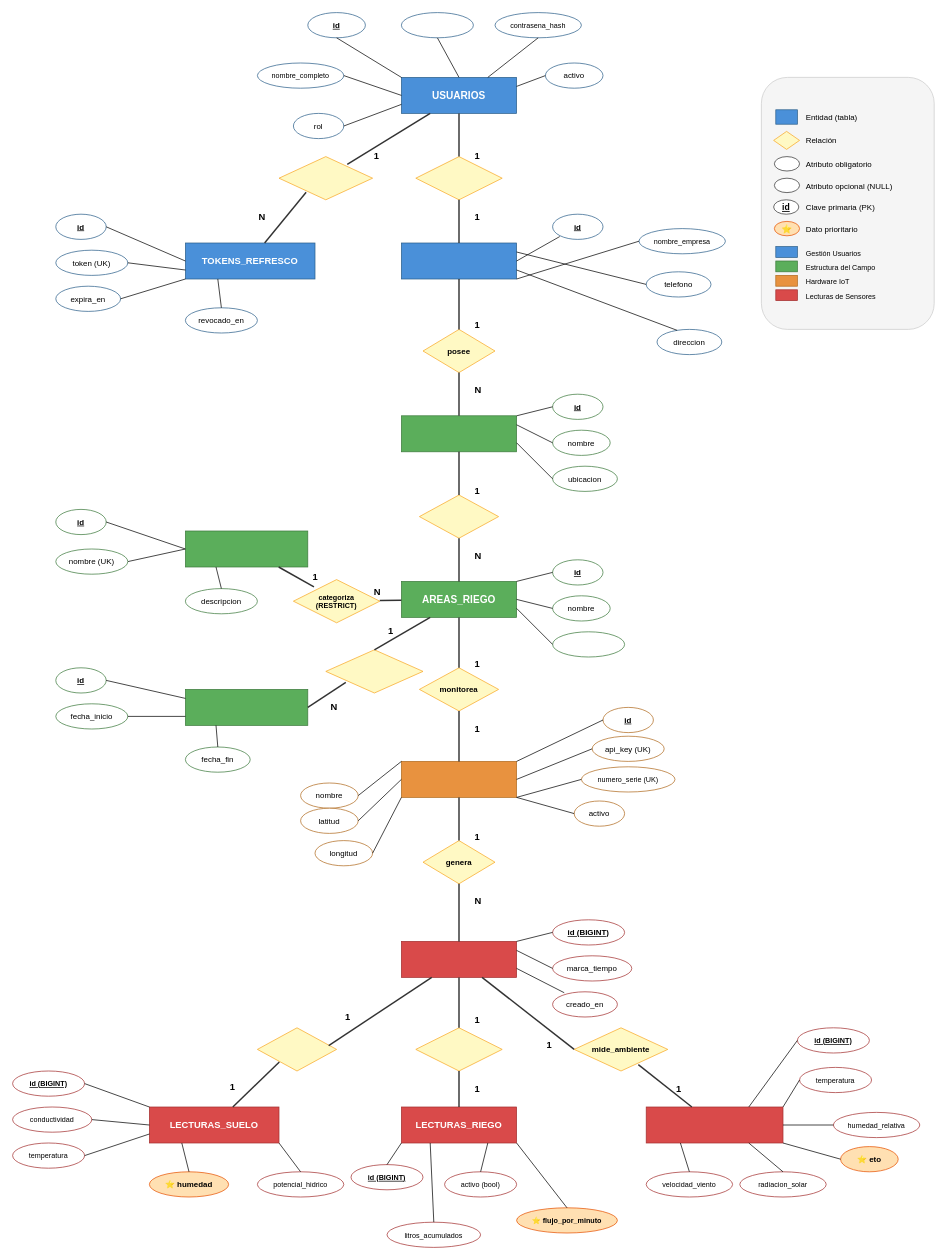
The diagram is 947 pixels wide and 1260 high, and some of its shapes have lost their labels. The centre of each missing label's shape, as x and y in pixels:
CICLOS_CULTIVO: [246,707]
CLIENTES: [459,260]
contiene: [459,516]
correo (UK): [437,25]
LECTURAS: [459,959]
LECTURAS_AMBIENTAL: [714,1124]
mide_riego: [458,1049]
mide_suelo: [297,1049]
NODOS: [459,779]
PREDIOS: [459,433]
tamano_area: [588,644]
tiene_cuenta: [458,178]
tiene_sesión: [325,178]
tiene_temporada: [374,671]
TIPOS_CULTIVO: [246,548]
